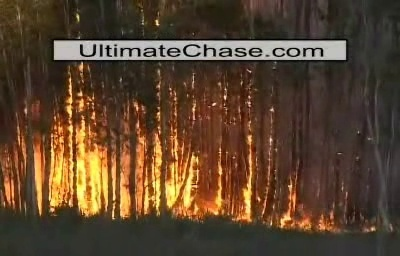fire: (44, 60, 103, 214)
